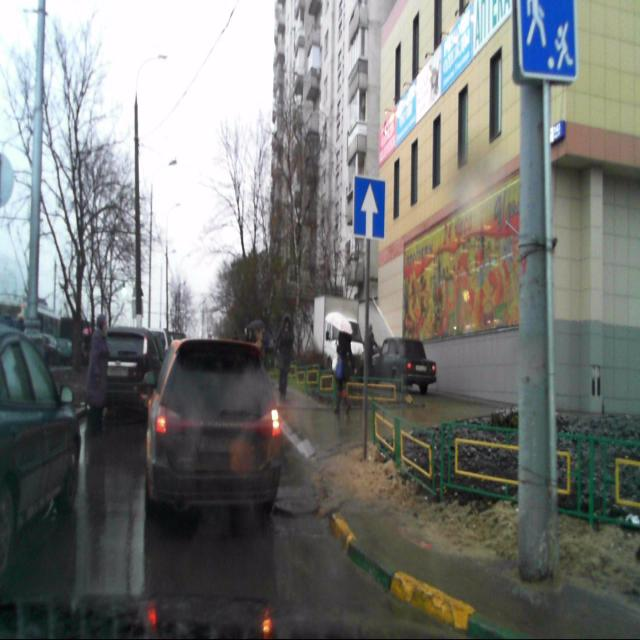object: (362, 239, 370, 463)
road sign: (353, 177, 384, 236)
